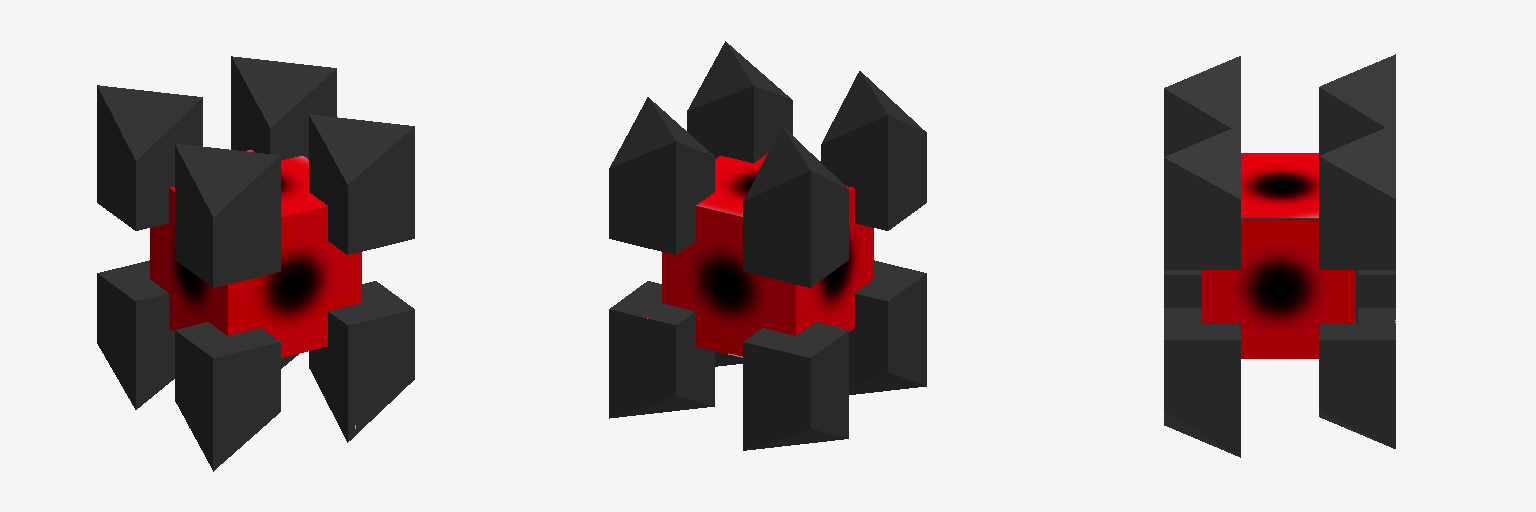
3 views of the same model, side by side, from view 1: azimuth 30°, elevation 25°; view 2: azimuth 150°, elevation 25°; view 3: azimuth 270°, elevation 25° (orthographic).
Parts seen in each view (by area): view 1: 立方体_立方体.015; view 2: 立方体_立方体.015; view 3: 立方体_立方体.015.
Boxes of the visible parts, x1=… form: 立方体_立方体.015: x1=97, y1=56, x2=414, y2=471; 立方体_立方体.015: x1=609, y1=41, x2=926, y2=450; 立方体_立方体.015: x1=1164, y1=54, x2=1395, y2=457.
Bounding box in the file's own units: 3 × 4.35 × 3.
Materials: 1 (1 with a texture image).